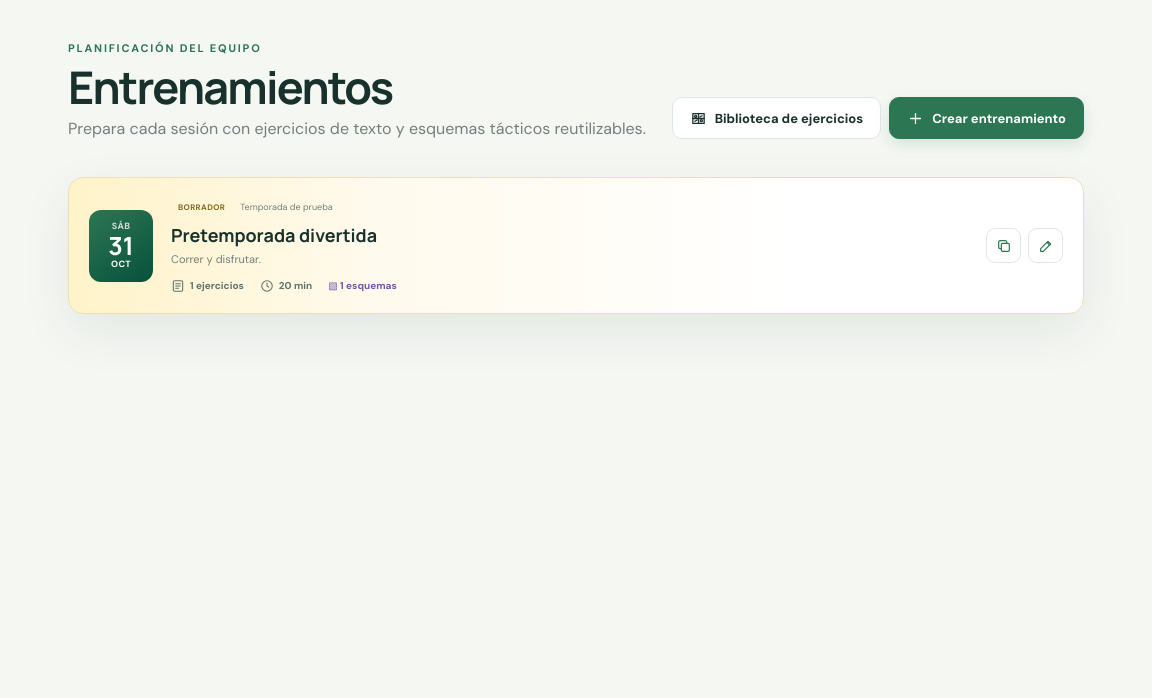
Test: training plan reading view › a late background response cannot restore a training plan deleted while it was refreshing
Click the button named "Editar entrenamiento Pretemporada divertida" at (1046, 246), box [1028, 228, 1063, 263]
(page scrolled)
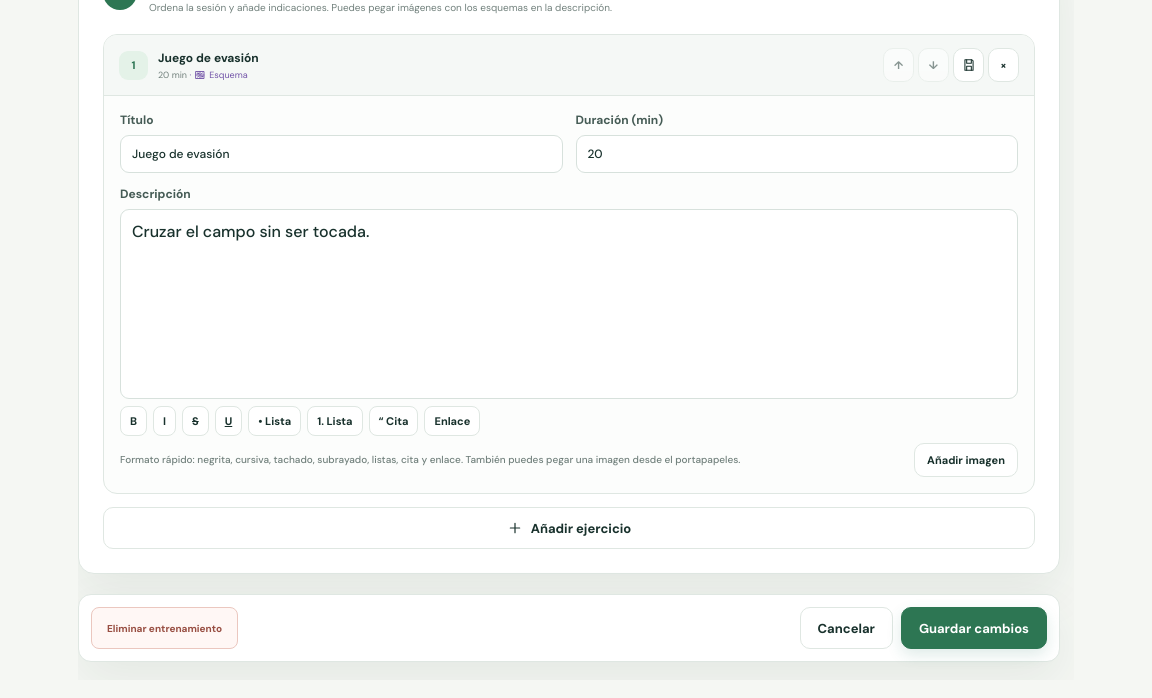
Click the button "Eliminar entrenamiento" at (165, 628), box [91, 607, 238, 649]
(page scrolled)
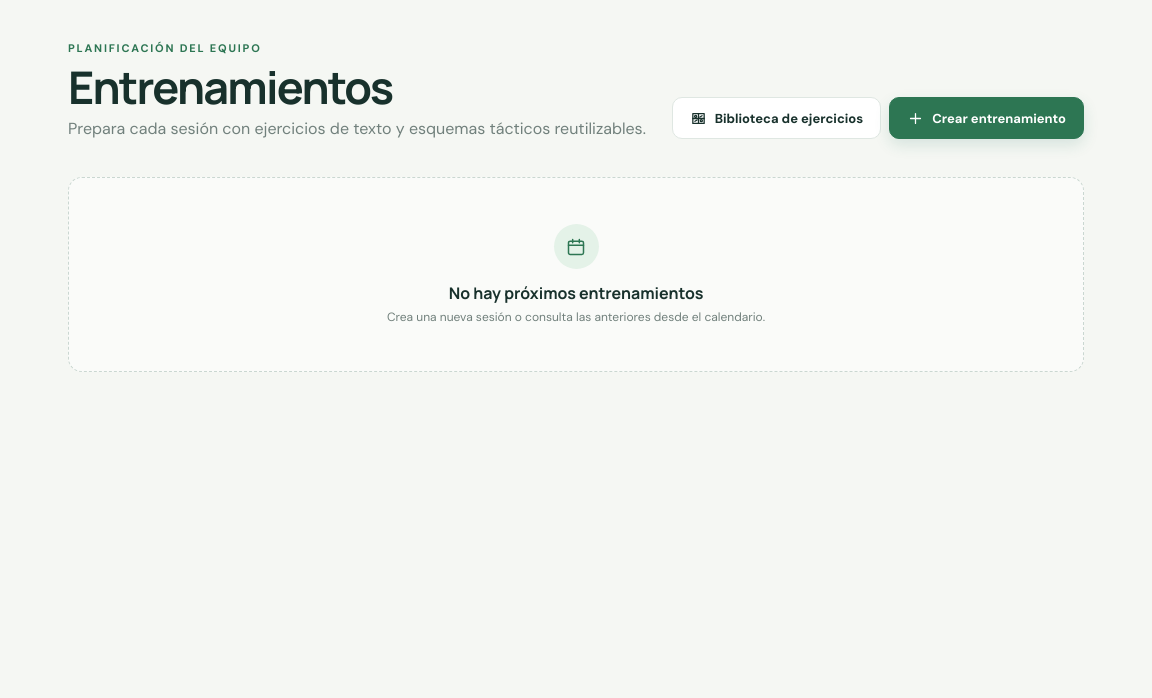
Expected: the heading "No hay próximos entrenamientos" is shown, [449, 282, 703, 304]
